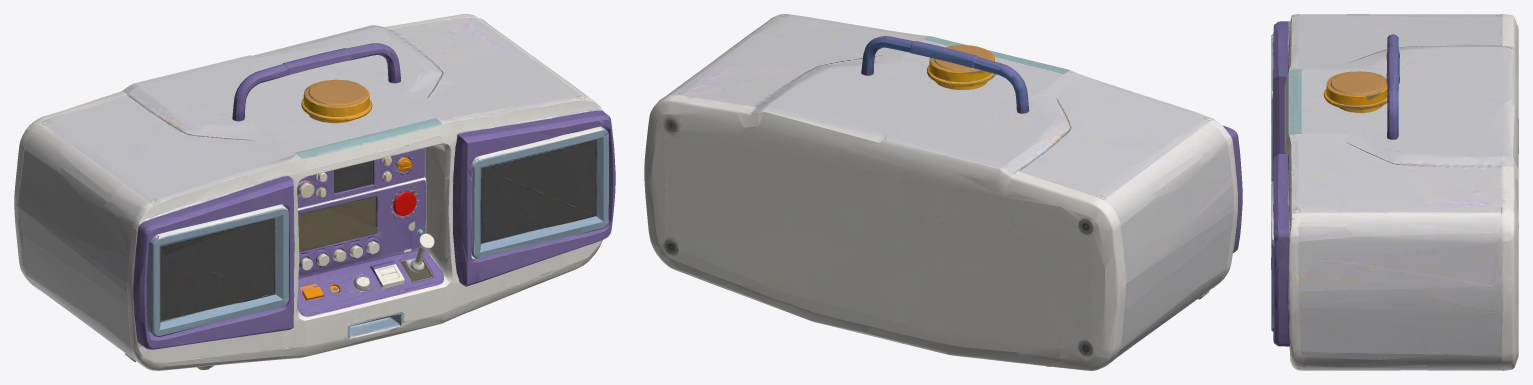
File: observation-console.gltf
3 renders of one model, left to right at view 1: azimuth 30°, elevation 25°; view 2: azimuth 150°, elevation 25°; view 3: azimuth 270°, elevation 25°, orthographic. The views are drawn at different scales.
Bounding box in the file's own units: 1.9 × 0.9426 × 0.9061.
1 material, 1 textured.
